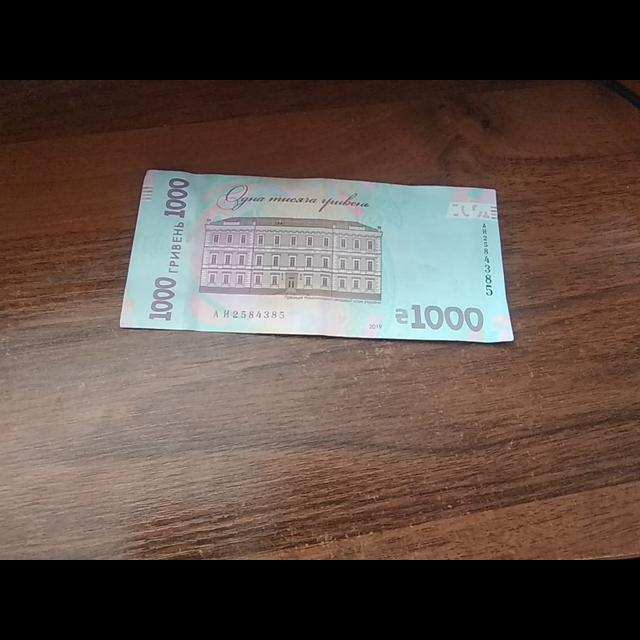1000uah: (120, 169, 513, 341)
